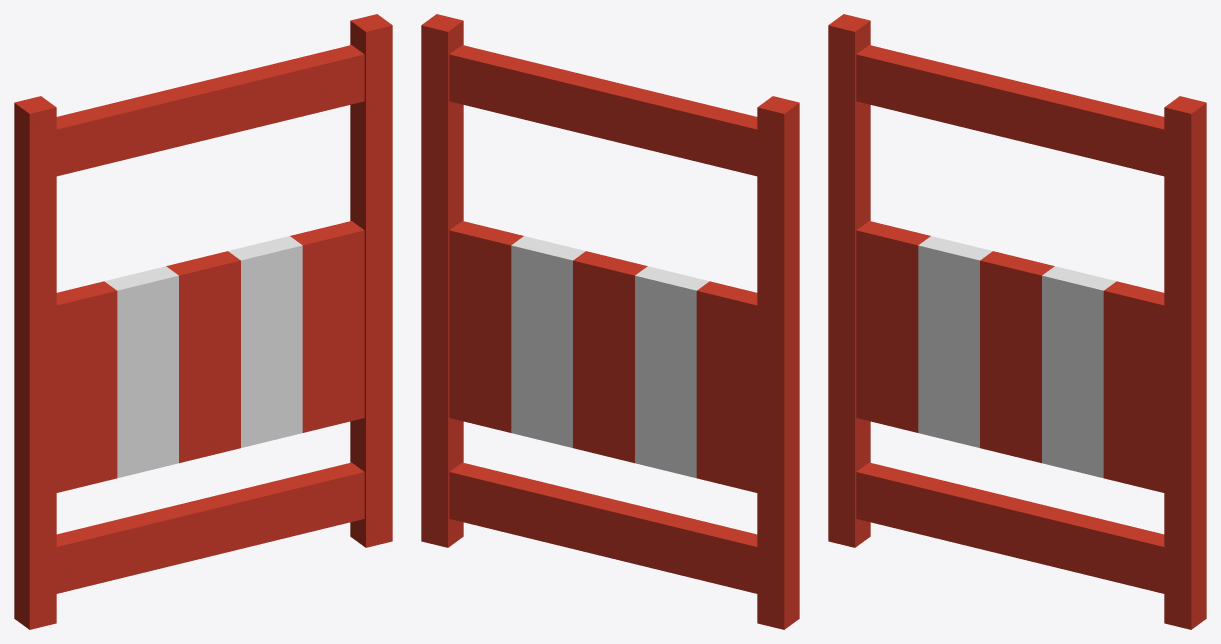
File: barrier.obj
3 views of the same model, side by side, from view 1: azimuth 30°, elevation 25°; view 2: azimuth 150°, elevation 25°; view 3: azimuth 330°, elevation 25° (orthographic).
Visible parts, largest first — view 1: barrier; view 2: barrier; view 3: barrier.
Part boxes in pixels (bbox=[...]): barrier: bbox=[14, 14, 392, 629]; barrier: bbox=[421, 14, 799, 629]; barrier: bbox=[828, 14, 1206, 629].
Bounding box in the file's own units: 1.62 × 2.2 × 0.12.
